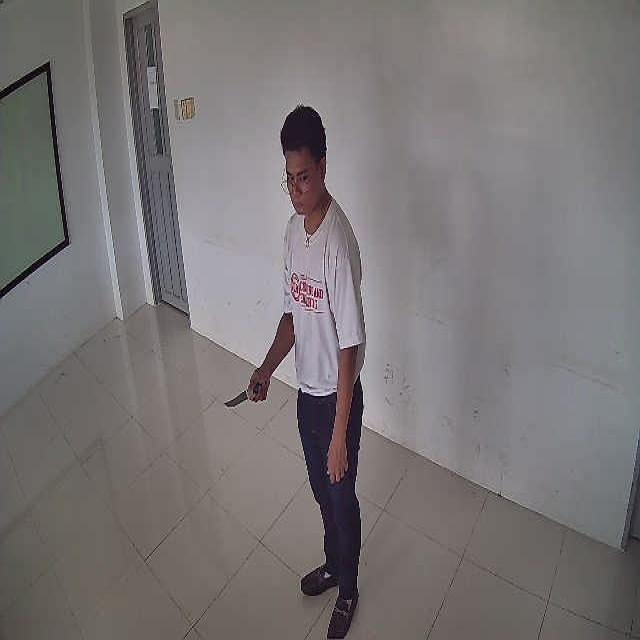knife: (224, 383, 260, 408)
